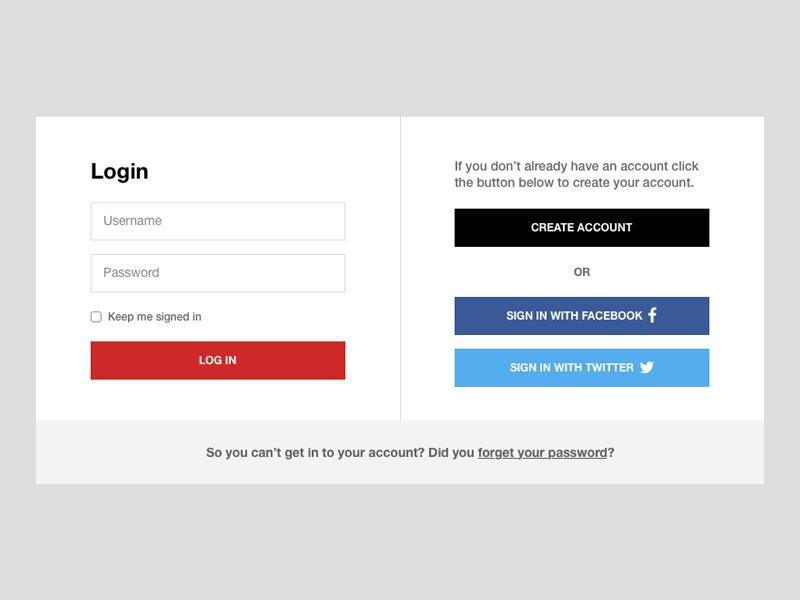button: (456, 209, 710, 250), (90, 341, 347, 381), (455, 350, 710, 390), (455, 296, 711, 335)
checkbox: (89, 311, 104, 324)
input: (92, 203, 348, 241), (93, 256, 347, 292)
label: (82, 157, 159, 189), (109, 314, 203, 326)
